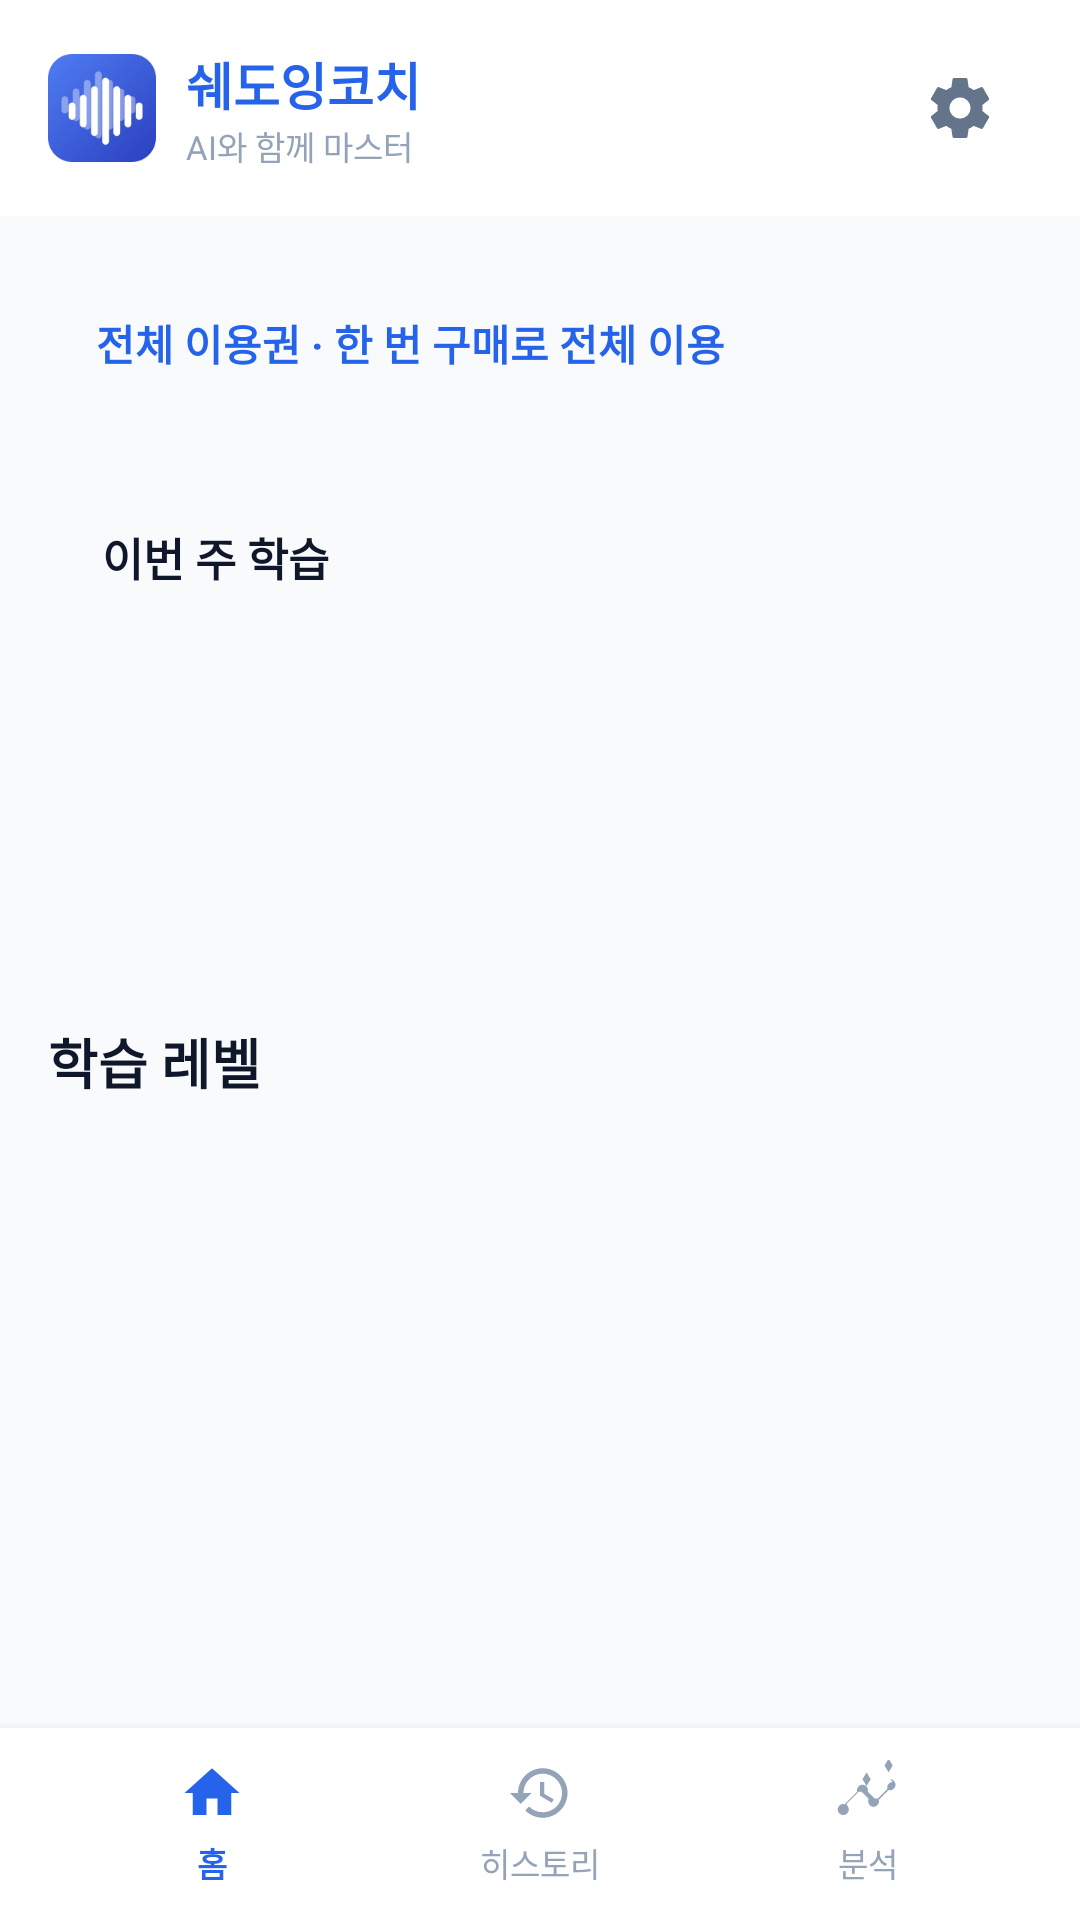

Named icons in this screenshot (1080px×1920px) and their bounding boxes, (x1, y1, x2, y2):
설정 및 안내: (931, 78, 989, 138)
